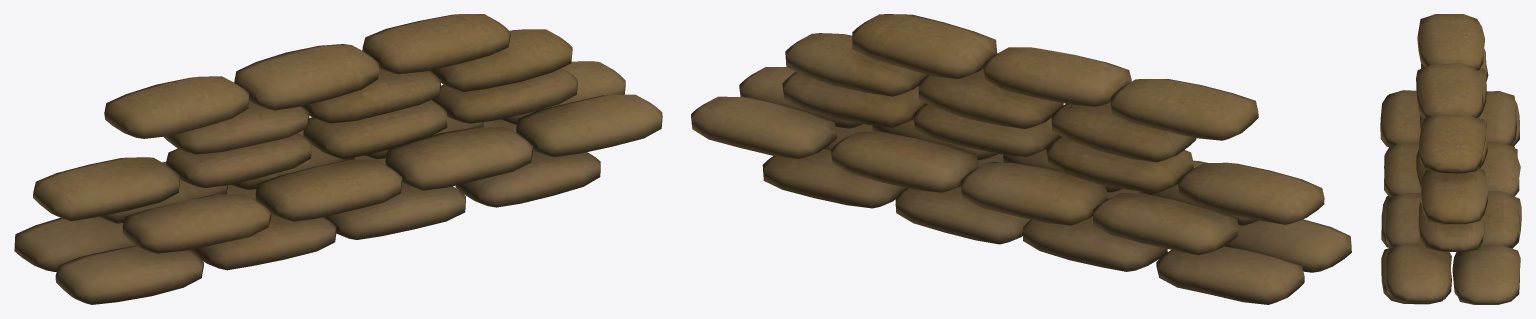
The model's file is sandbags.glb.
3 views of the same model, side by side, from view 1: azimuth 30°, elevation 25°; view 2: azimuth 150°, elevation 25°; view 3: azimuth 270°, elevation 25° (orthographic). The views are drawn at different scales.
Parts seen in each view (by area): view 1: sandbags; view 2: sandbags; view 3: sandbags.
Boxes of the visible parts, left/top/right/bottom form: sandbags: left=14, top=14, right=662, bottom=304; sandbags: left=691, top=14, right=1351, bottom=304; sandbags: left=1380, top=14, right=1521, bottom=304.
Bounding box in the file's own units: 2.57 × 0.6648 × 0.6645.
1 material, 1 textured.
